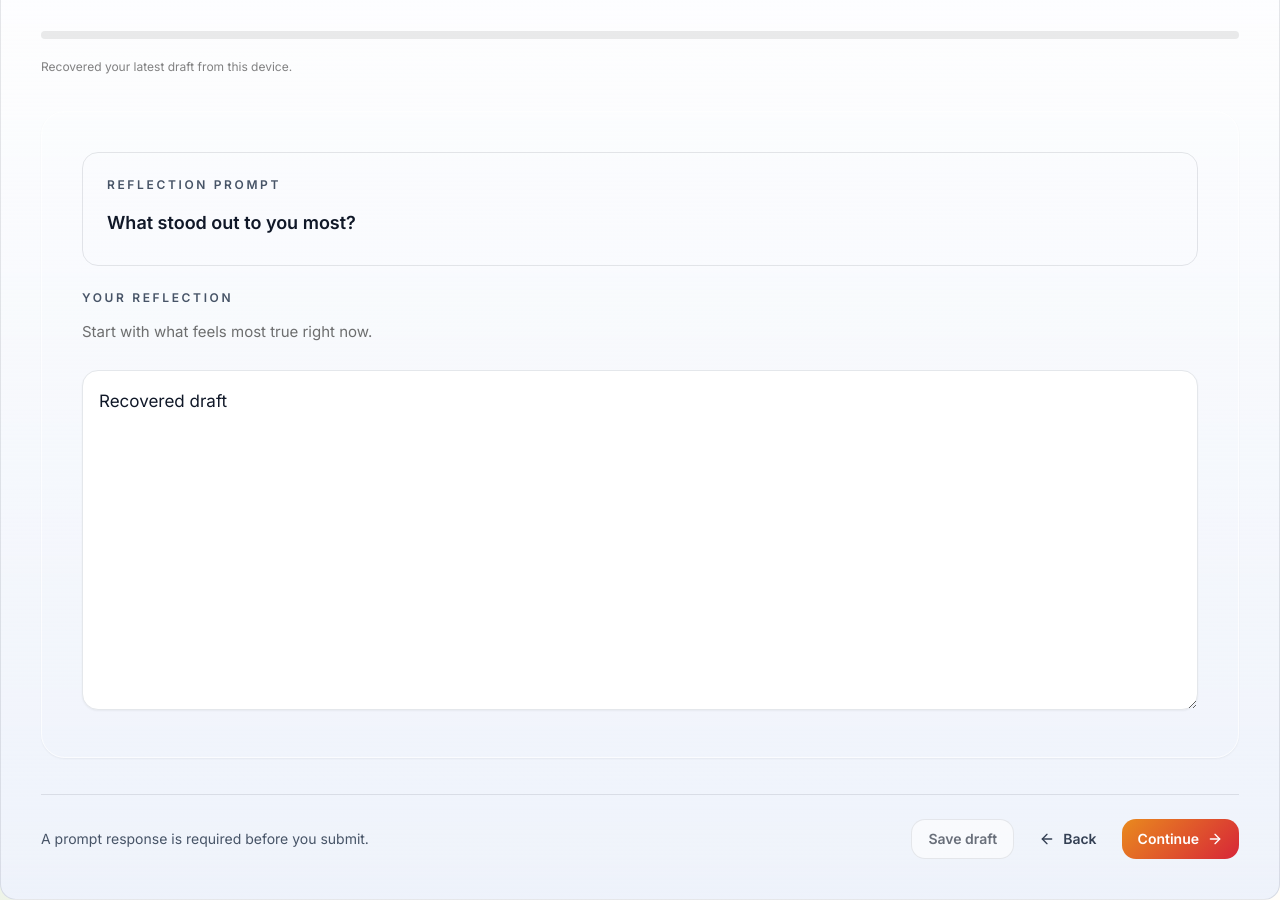
Test: GuidedReflectionFlow › restores a saved draft and preserves step navigation state
The image size is (1280, 900).
(page scrolled)
Expected: the text box showing "Recovered draft" is shown, left=82, top=370, right=1198, bottom=710
Click the button "Continue" at (1180, 839), box left=1122, top=819, right=1239, bottom=859
(page scrolled)
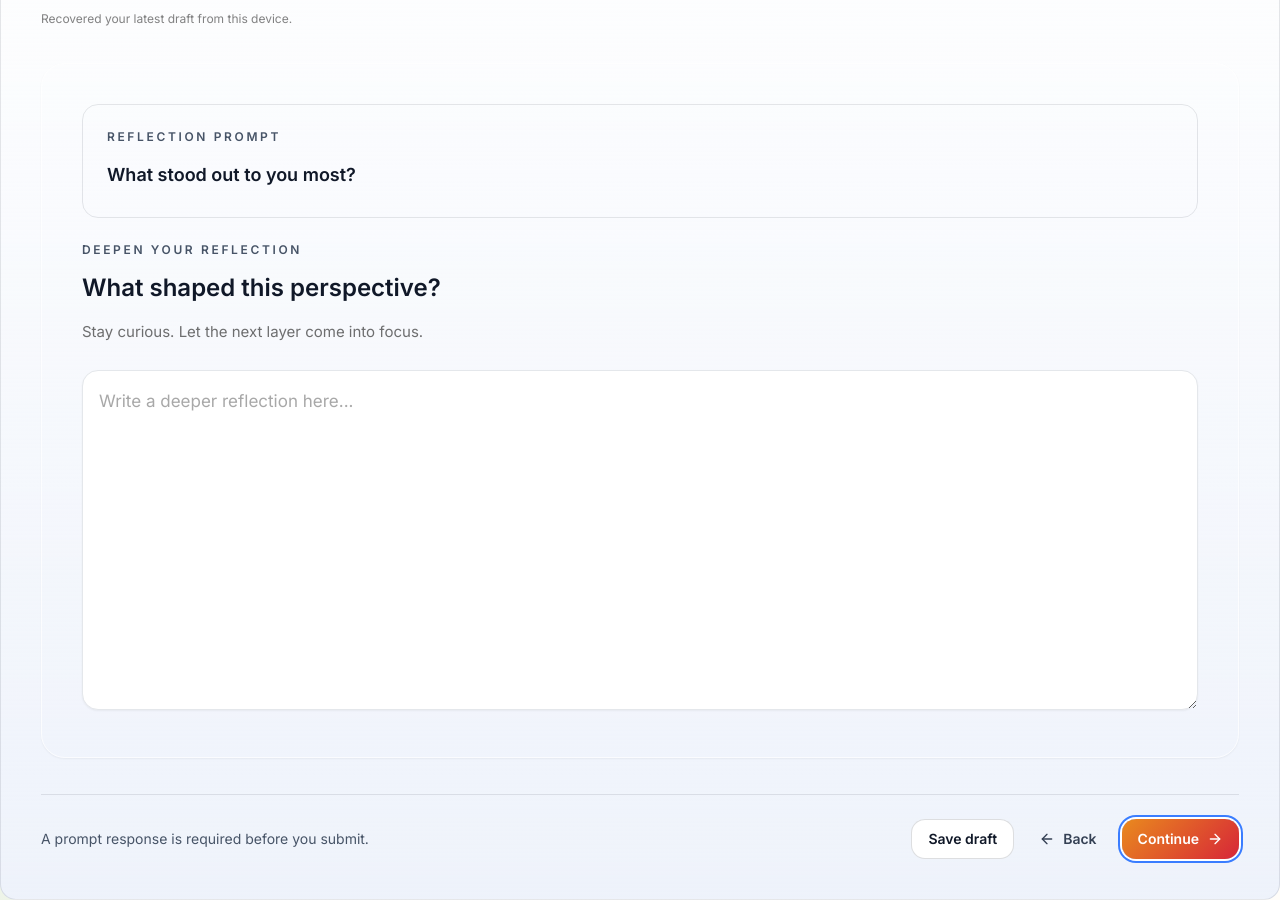
Click the button "Back" at (1068, 839), box left=1022, top=819, right=1114, bottom=859
(page scrolled)
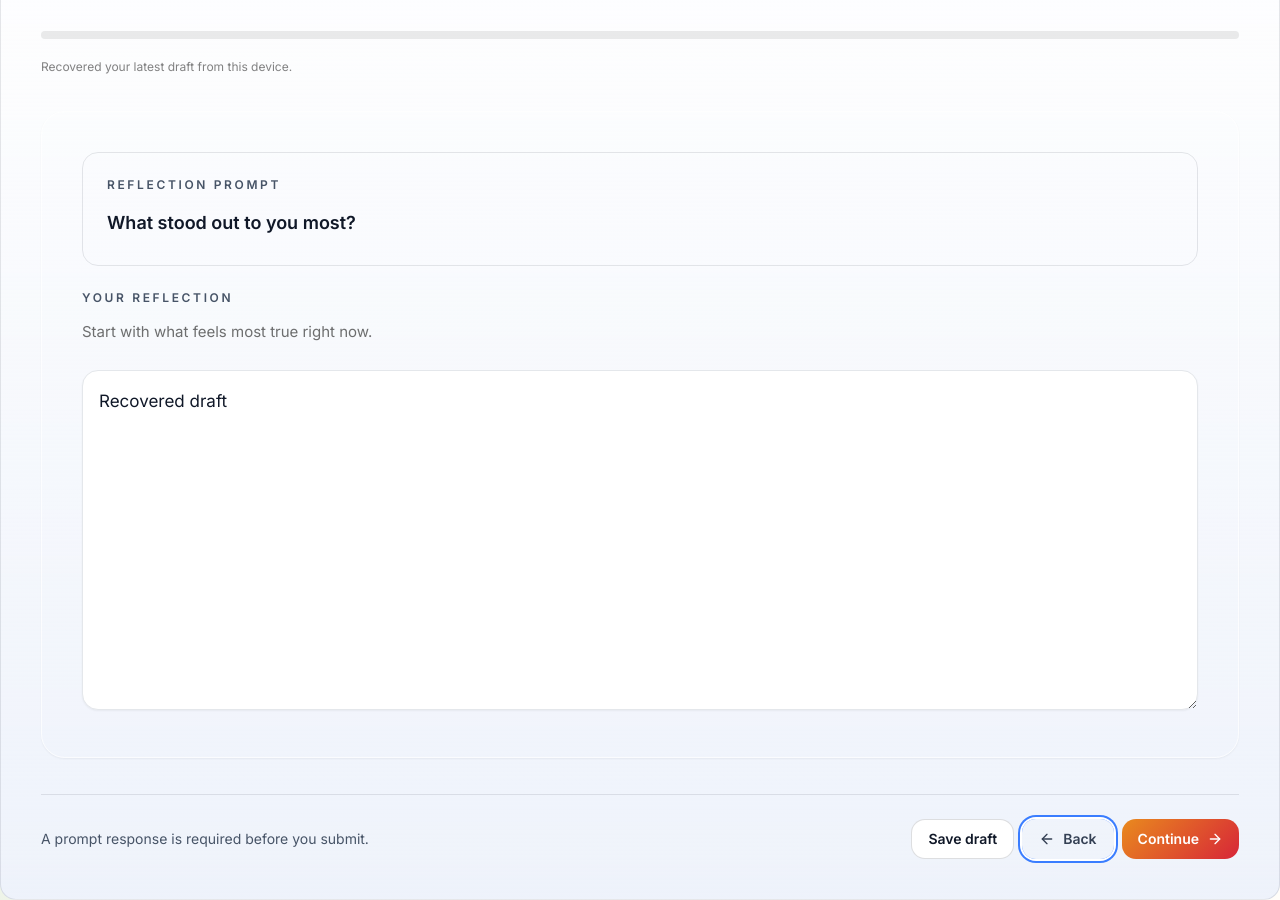
Expected: the text box showing "Recovered draft" is shown, left=82, top=370, right=1198, bottom=710
